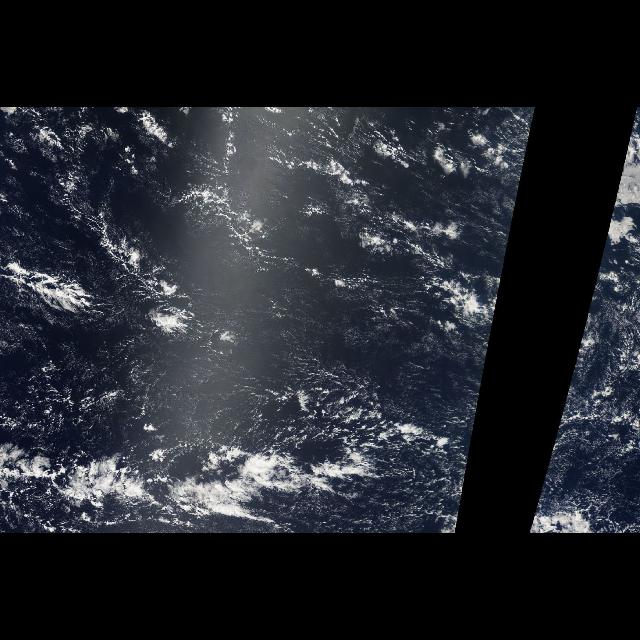Sugar: (101, 303, 497, 459)
